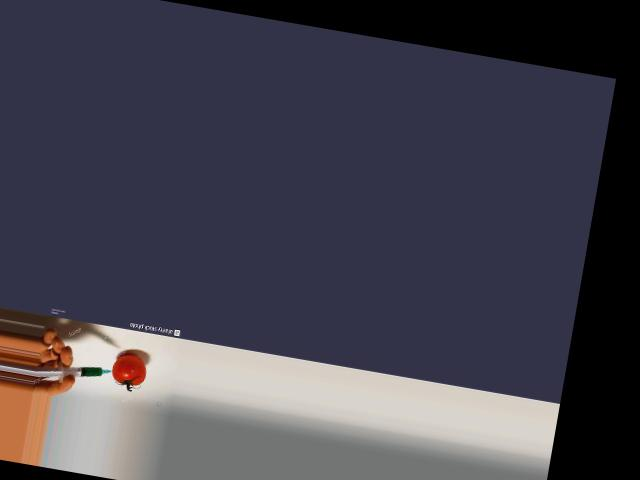tomato: (110, 351, 147, 386)
